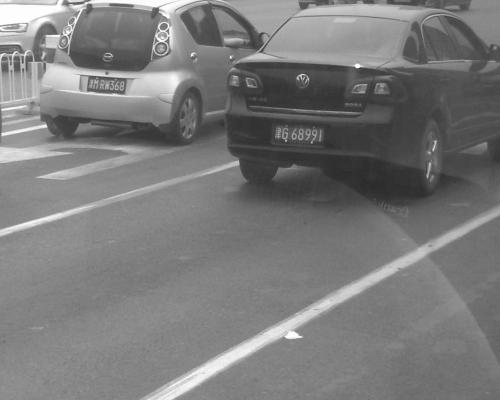Carplate: (267, 117, 332, 146)
